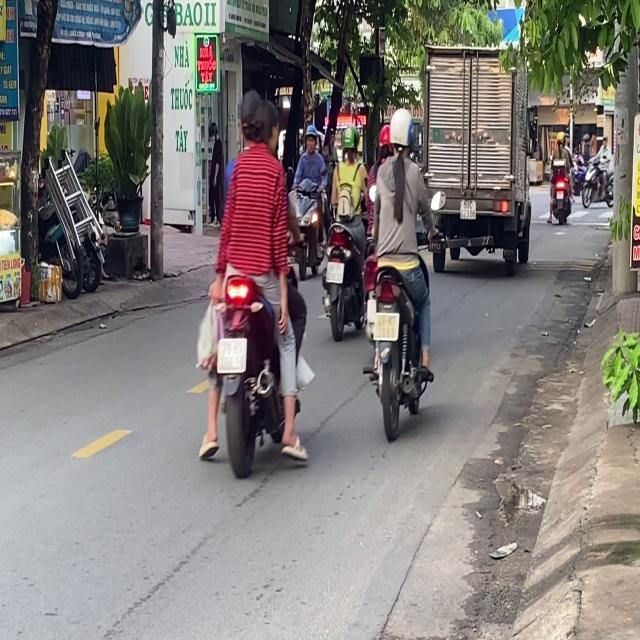helmet: (388, 107, 414, 155), (341, 124, 359, 159), (377, 122, 391, 156), (304, 124, 318, 152)
licenseplate: (192, 86, 314, 478), (362, 105, 437, 436), (321, 122, 371, 338)
motorcyclist: (247, 98, 281, 158)
nohelmet: (217, 338, 246, 372), (373, 311, 399, 340), (326, 260, 344, 282)
